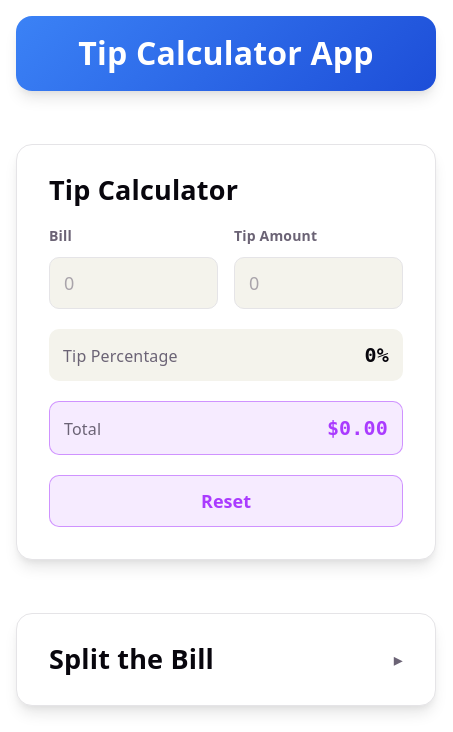
it: App › resets all inputs and results
Type "100" into the field labelled "Bill" at x=134, y=283, box [49,257,218,309]
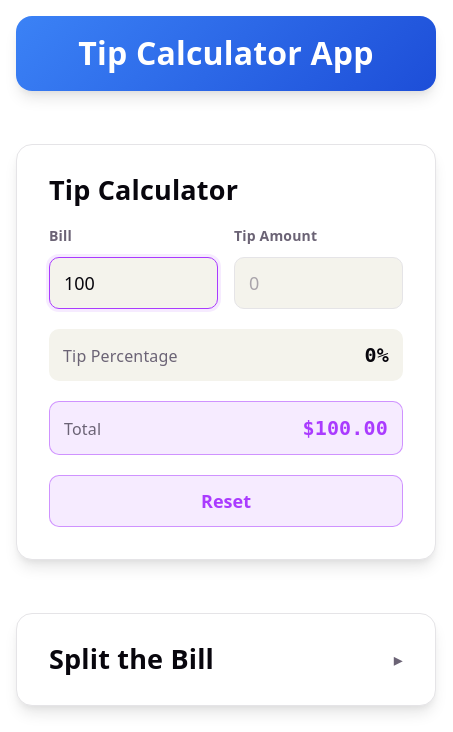
Type "20" into the field labelled "Tip Amount" at x=318, y=283, box [234,257,403,309]
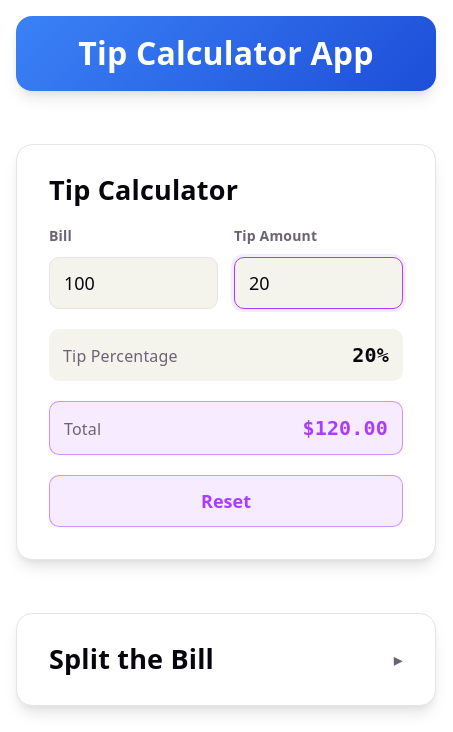
Click the button "Reset" at x=226, y=501, box [49,475,403,527]
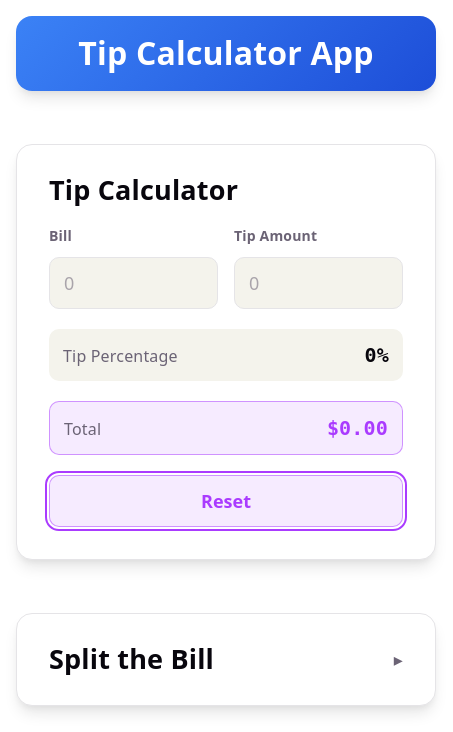
Expected: the field labelled "Bill" is empty, [49,257,218,309]
Expected: the field labelled "Tip Amount" is empty, [234,257,403,309]
Expected: the text "$0.00" is shown, [327,414,388,442]
